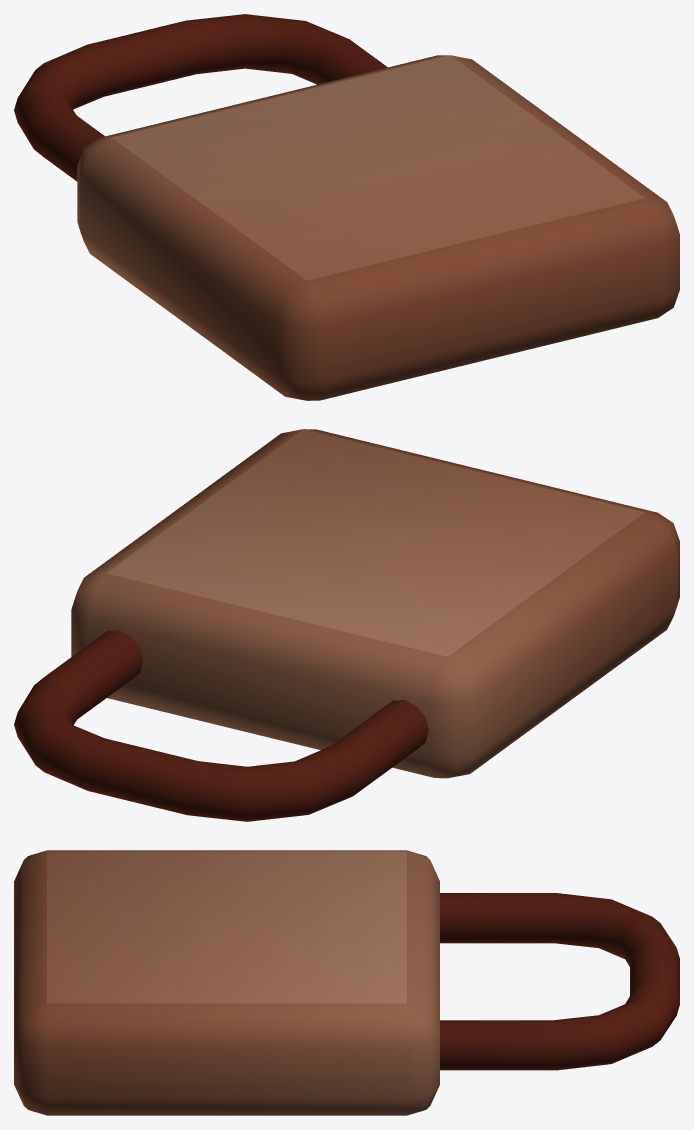
Rendered from Vines lock.fbx.
3 renders of one model, top to bottom at view 1: azimuth 30°, elevation 25°; view 2: azimuth 150°, elevation 25°; view 3: azimuth 270°, elevation 25°, orthographic. The views are drawn at different scales.
Parts seen in each view (by area): view 1: Plane.005; view 2: Plane.005; view 3: Plane.005.
Part boxes in pixels (x1,y1,x2,y2): Plane.005: (14, 14, 679, 400); Plane.005: (14, 429, 679, 821); Plane.005: (14, 850, 679, 1115).
Size of the model in its own units: 8.45 by 2.42 by 13.2.
